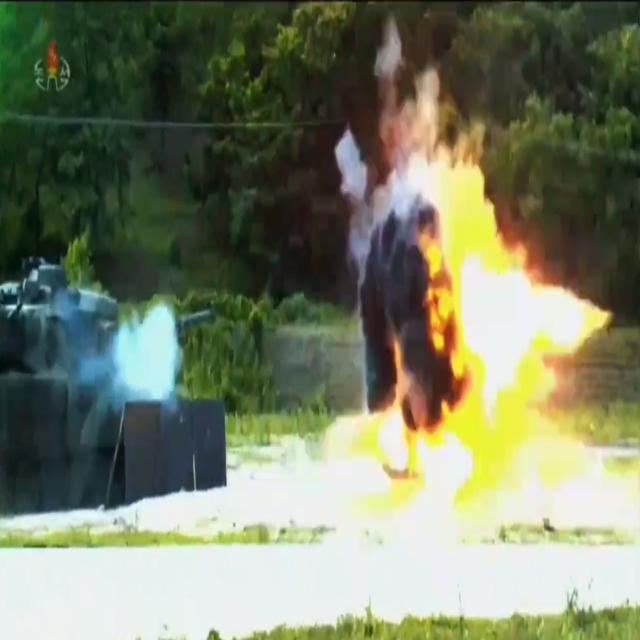north tank: (0, 228, 246, 522)
